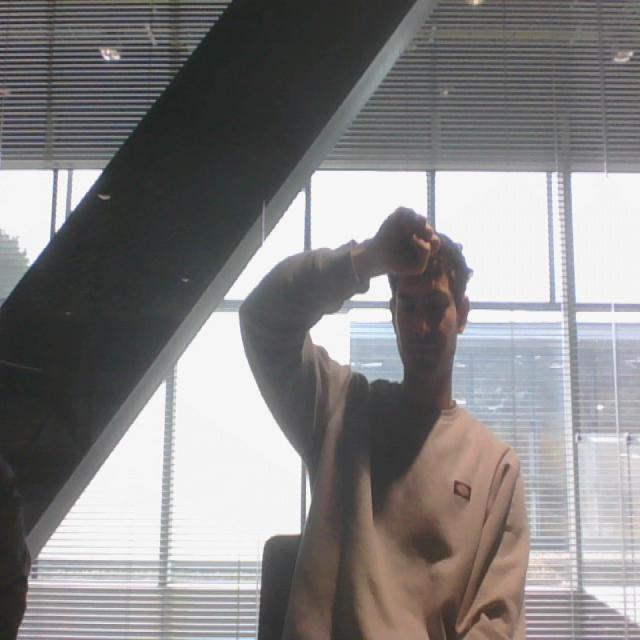stop: (370, 201, 440, 282)
